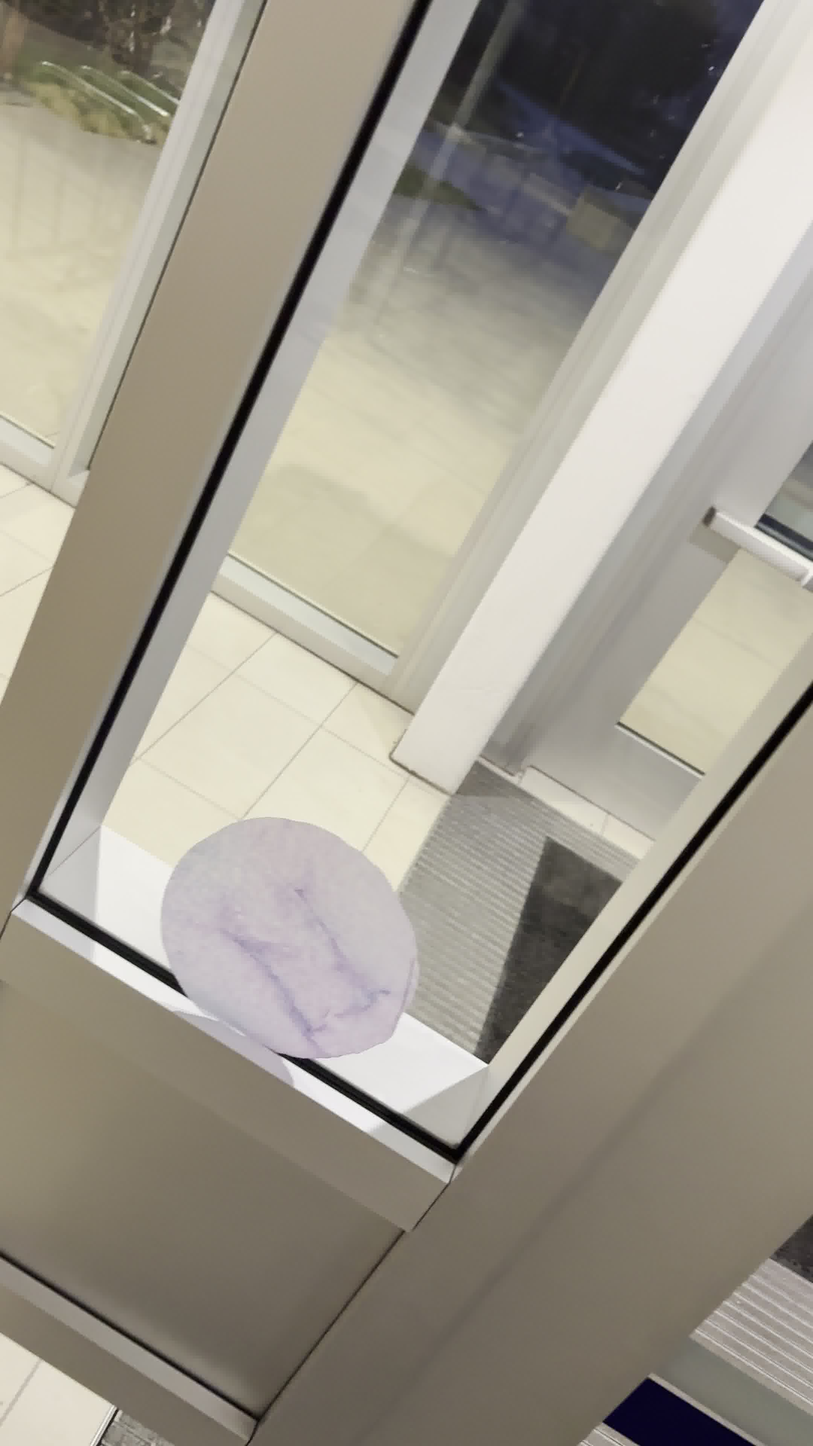Target: (157, 810, 426, 1064)
